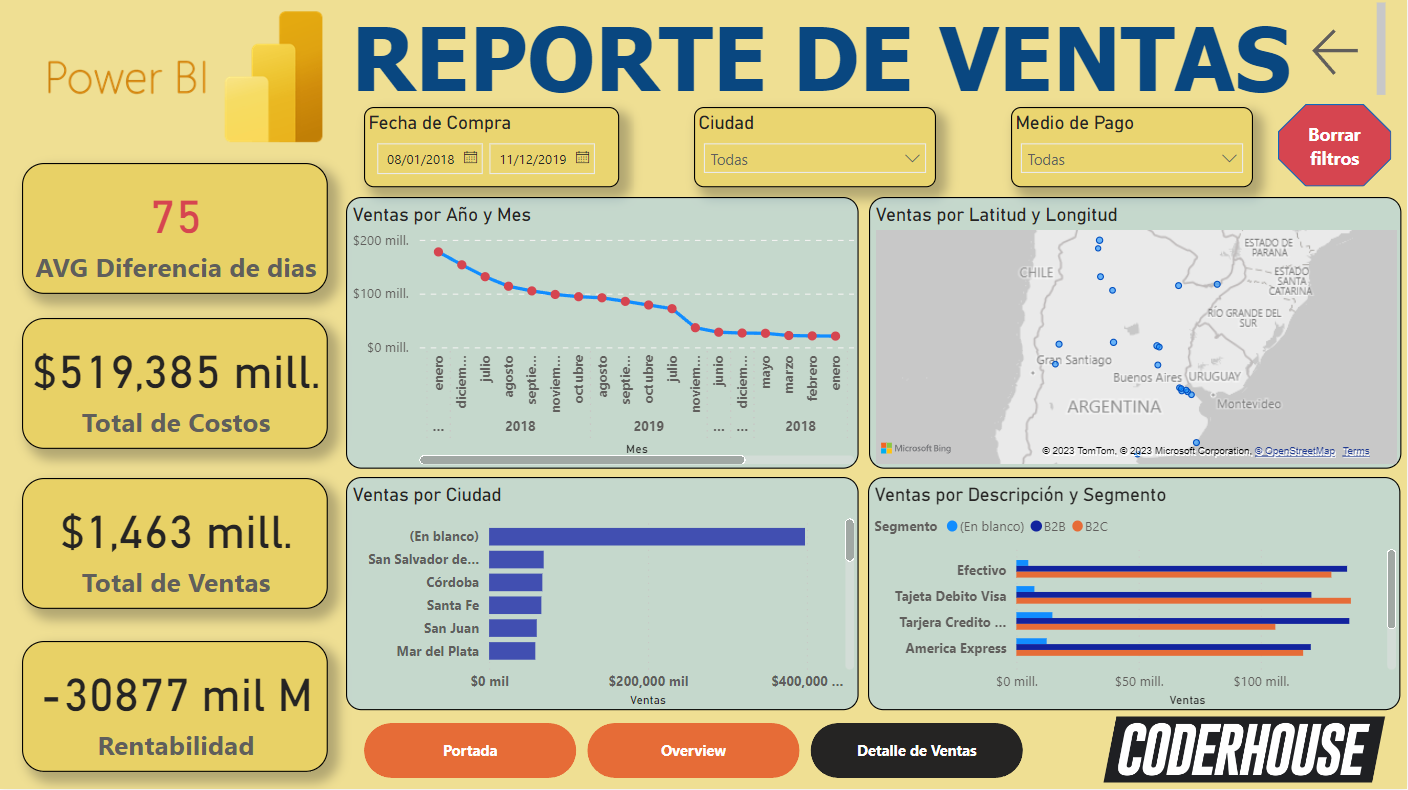

What the dashboard file says about the page in this screenshot:
{"tool":"powerbi","page":{"name":"Detalle de Ventas","canvas":[1280,720],"ordinal":2},"visuals":[{"type":"image","box":[40,0,259,145],"z":0},{"type":"textbox","box":[315.6,0,950,100],"z":1000},{"type":"image","box":[999.3,649.5,266.2,70.2],"z":2000},{"type":"card","fields":{"Values":["Venta.Prom_Diferencia_Dias"]},"box":[20.9,150.9,278.2,119.1],"z":3000},{"type":"card","fields":{"Values":["Venta.Venta_Total"]},"box":[21,437,278,119],"z":4000},{"type":"card","fields":{"Values":["Venta.Costo_Total"]},"box":[21,292,278,119],"z":5000},{"type":"card","fields":{"Values":["Venta.Rentabilidad"]},"box":[21,585,278,119],"z":6000},{"type":"pageNavigator","box":[332,660,600,50],"z":7000},{"type":"slicer","title":"Fecha de Compra","fields":{"Values":["Venta.Fecha compra"]},"box":[332.2,100,232.2,73.3],"z":8000},{"type":"slicer","title":"Ciudad","fields":{"Values":["Territorio.Ciudad"]},"box":[632.2,100,220,73.3],"z":9000},{"type":"slicer","title":"Medio de Pago","fields":{"Values":["Medios de pago.Nombre de pago"]},"box":[920,100,220,73.3],"z":10000},{"type":"map","fields":{"Y":["Territorio.Latitud"],"X":["Territorio.Longitud"],"Size":["Venta.Venta_Total"]},"box":[791,181.5,484.1,247.3],"z":11000},{"type":"barChart","fields":{"Y":["Venta.Venta_Total"],"Category":["Territorio.Ciudad"]},"box":[315.7,436.7,465.7,212.2],"z":12000},{"type":"clusteredBarChart","fields":{"Y":["Venta.Venta_Total"],"Category":["Medios de pago.Nombre de pago"],"Series":["Vendedor.Segmento"]},"box":[790,436.7,484.4,212.2],"z":13000},{"type":"lineChart","fields":{"Category":["Calendario.Año","Calendario.Nombre Mes"],"Y":["Venta.Venta_Total"]},"box":[315.7,181.5,465.7,247.3],"z":14000},{"type":"actionButton","box":[1189.2,23.4,84.9,52.7],"z":15000},{"type":"shape","box":[1162.8,97.6,102.5,75.2],"z":16000}]}

Visuals, with their boxes in screenshot pixels (x1, y1, x2, y2), scaled from the page's 1280x720 canvas onto the 1408x790 screenshot:
image: (44,0,329,159)
textbox: (347,0,1392,110)
image: (1099,713,1392,789)
card - Venta.Prom_Diferencia_Dias: (23,166,329,296)
card - Venta.Venta_Total: (23,479,329,610)
card - Venta.Costo_Total: (23,320,329,451)
card - Venta.Rentabilidad: (23,642,329,772)
pageNavigator: (365,724,1025,779)
"Fecha de Compra" slicer: (365,110,621,190)
"Ciudad" slicer: (695,110,937,190)
"Medio de Pago" slicer: (1012,110,1254,190)
map - Territorio.Latitud x Territorio.Longitud: (870,199,1403,470)
barChart - Venta.Venta_Total x Territorio.Ciudad: (347,479,860,712)
clusteredBarChart - Venta.Venta_Total x Medios de pago.Nombre de pago: (869,479,1402,712)
lineChart - Calendario.Año x Calendario.Nombre Mes: (347,199,860,470)
actionButton: (1308,26,1402,83)
shape: (1279,107,1392,190)
